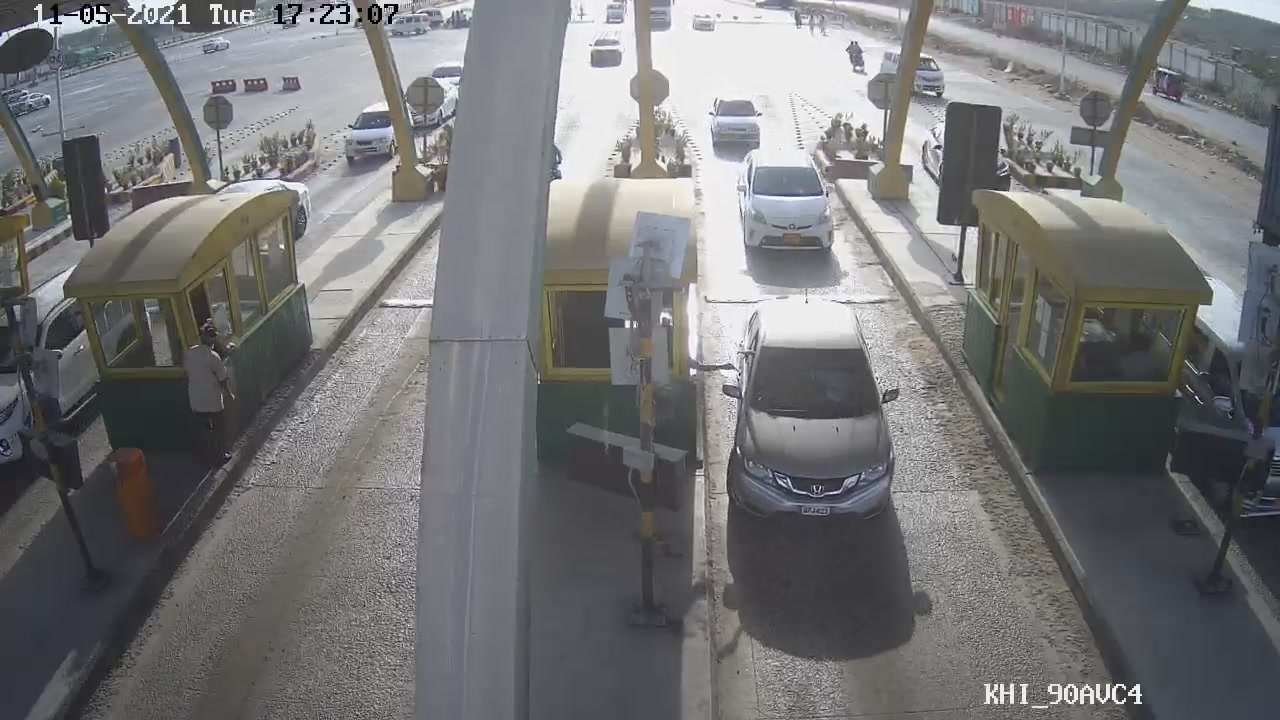F1: (723, 293, 909, 539), (713, 144, 851, 267)
